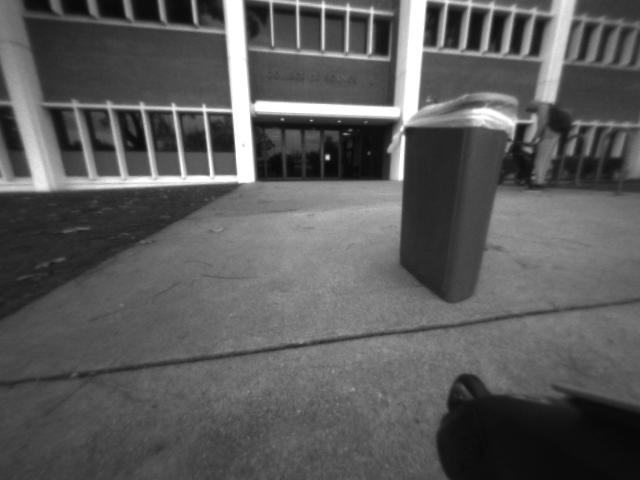trashcan_open: (392, 87, 527, 311)
